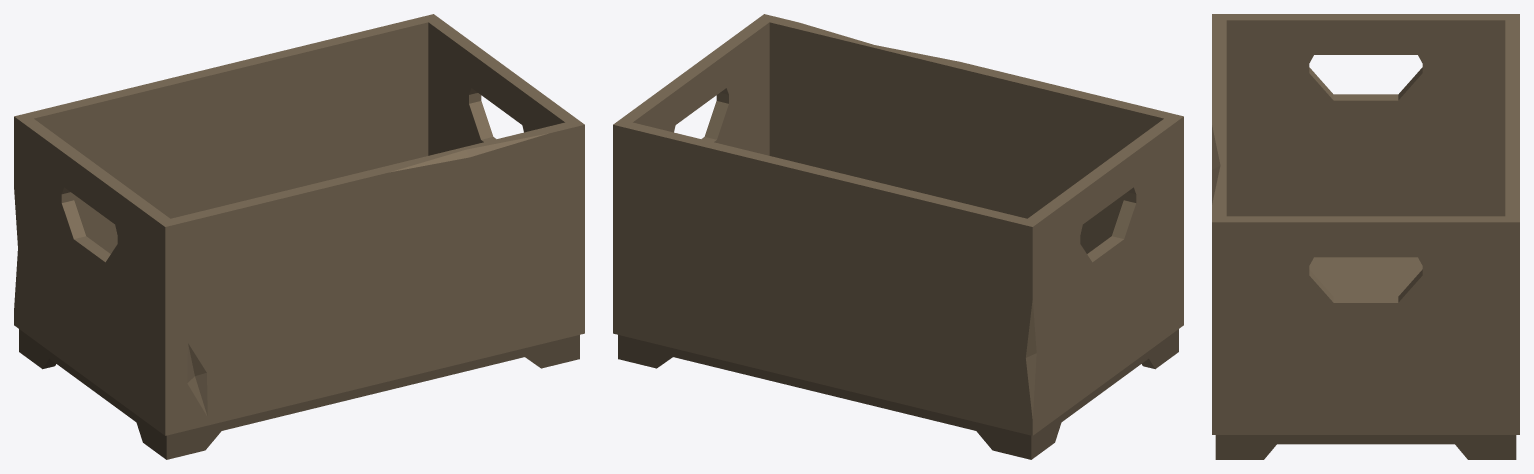
File: SM_Props_Farm_Crate_04.fbx
3 views of the same model, side by side, from view 1: azimuth 30°, elevation 25°; view 2: azimuth 150°, elevation 25°; view 3: azimuth 270°, elevation 25° (orthographic).
Parts seen in each view (by area): view 1: SM_Props_Farm_Crate_04; view 2: SM_Props_Farm_Crate_04; view 3: SM_Props_Farm_Crate_04.
Boxes of the visible parts, x1,y1,x2,y2 form: SM_Props_Farm_Crate_04: (14,14,584,459); SM_Props_Farm_Crate_04: (613,14,1183,459); SM_Props_Farm_Crate_04: (1212,14,1519,459).
Bounding box in the file's own units: 168 × 90 × 105.
